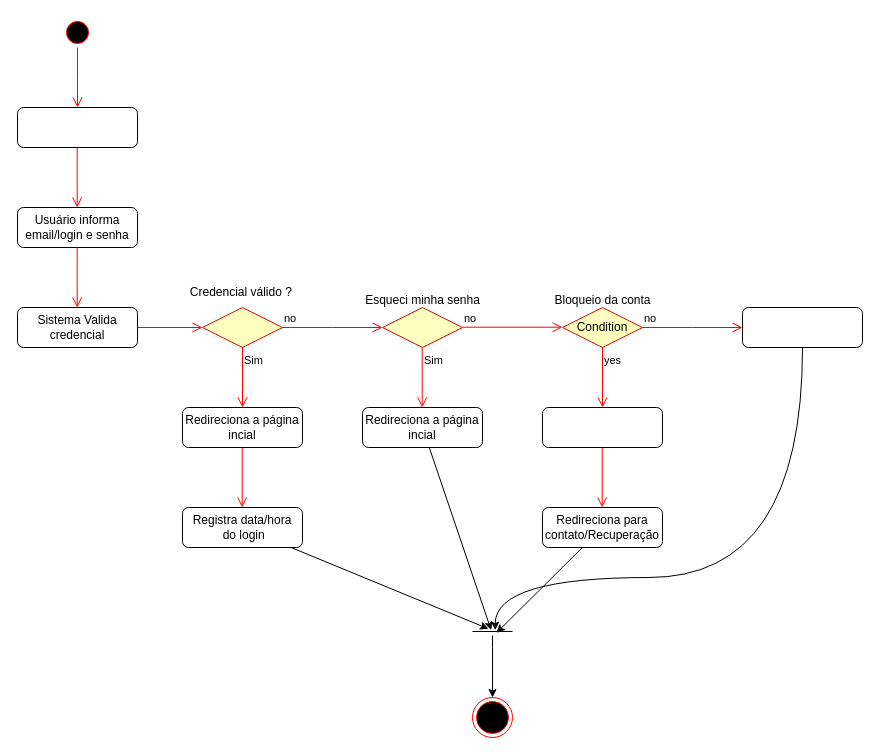
Some shapes in this 880 by 755 pixel diagram are drawn without their labels. The shapes that lost their labels are listed below. From the top down, each one's centre as x and y in pixels, then its label:
At (77,127): "Usuário acessa a página de login".
At (802,327): "Informa conta não aprovada e pede retorno".
At (602,427): "Informa motivo do bloqueio".
